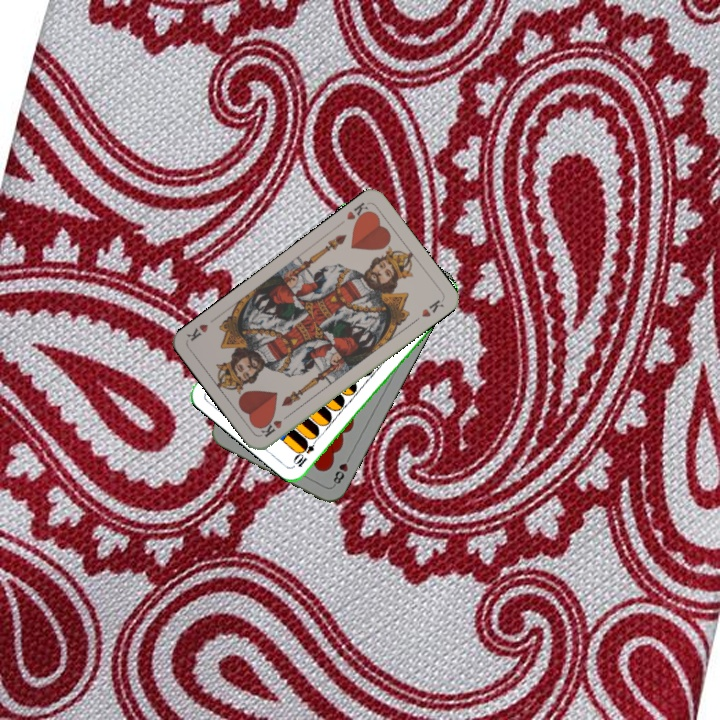E10: (290, 433, 321, 470)
H8: (329, 451, 354, 489)
HK: (257, 409, 293, 440), (343, 198, 374, 227)
